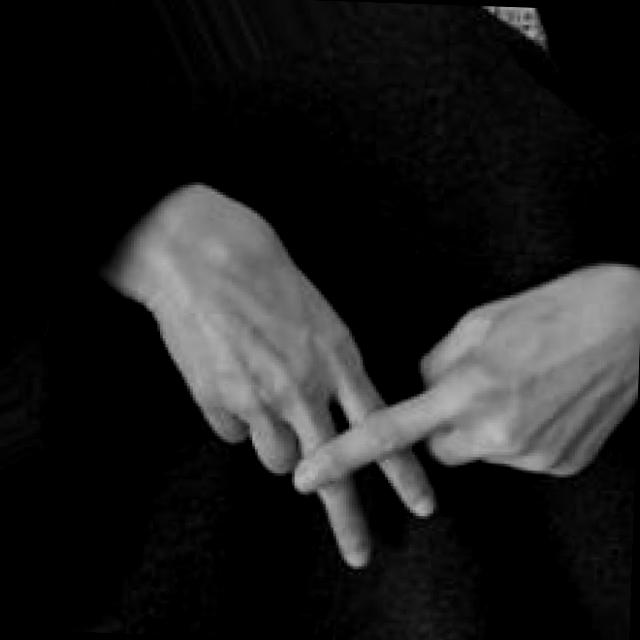A: (148, 238, 640, 578)
